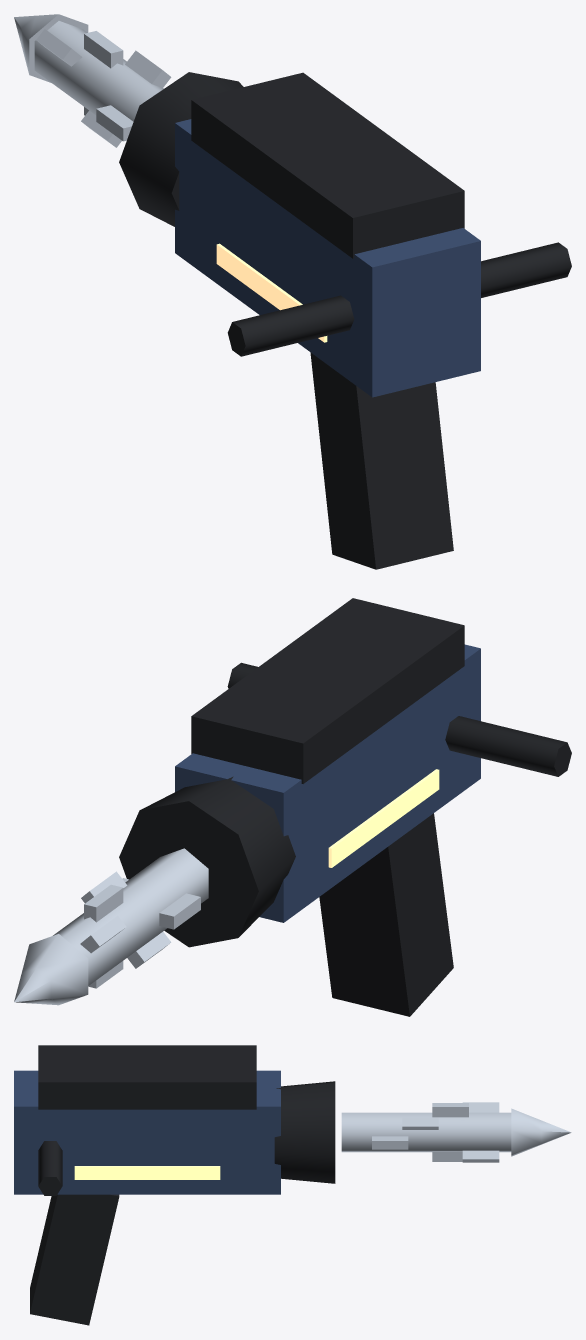
Rendered from tool_core_drill.glb.
3 renders of one model, top to bottom at view 1: azimuth 30°, elevation 25°; view 2: azimuth 150°, elevation 25°; view 3: azimuth 270°, elevation 25°, orthographic. The views are drawn at different scales.
Parts seen in each view (by area): view 1: _MeshInstance3D_1235, _MeshInstance3D_1236, _MeshInstance3D_1234, _MeshInstance3D_1239, _MeshInstance3D_1240, _MeshInstance3D_1237, _MeshInstance3D_1238, _MeshInstance3D_1246, _MeshInstance3D_1245, _MeshInstance3D_1242, _MeshInstance3D_1243, _MeshInstance3D_1241 (+1 smaller); view 2: _MeshInstance3D_1236, _MeshInstance3D_1235, _MeshInstance3D_1234, _MeshInstance3D_1239, _MeshInstance3D_1240, _MeshInstance3D_1237, _MeshInstance3D_1245, _MeshInstance3D_1246, _MeshInstance3D_1243, _MeshInstance3D_1242, _MeshInstance3D_1241, _MeshInstance3D_1244; view 3: _MeshInstance3D_1235, _MeshInstance3D_1236, _MeshInstance3D_1234, _MeshInstance3D_1240, _MeshInstance3D_1239, _MeshInstance3D_1246, _MeshInstance3D_1245, _MeshInstance3D_1238, _MeshInstance3D_1243, _MeshInstance3D_1244, _MeshInstance3D_1241, _MeshInstance3D_1242.
Part boxes in pixels (x1,y1,x2,y2): _MeshInstance3D_1235: (175,119,480,397); _MeshInstance3D_1236: (191,72,464,258); _MeshInstance3D_1234: (310,352,453,569); _MeshInstance3D_1239: (119,72,243,226); _MeshInstance3D_1240: (34,21,163,121); _MeshInstance3D_1237: (227,295,354,356); _MeshInstance3D_1238: (481,242,571,297); _MeshInstance3D_1246: (216,243,327,342); _MeshInstance3D_1245: (14,14,88,82); _MeshInstance3D_1242: (81,50,171,147); _MeshInstance3D_1243: (84,31,123,115); _MeshInstance3D_1241: (96,105,133,141); _MeshInstance3D_1236: (191,598,464,783); _MeshInstance3D_1235: (175,644,480,922); _MeshInstance3D_1234: (319,813,453,1016); _MeshInstance3D_1239: (119,776,295,947); _MeshInstance3D_1240: (53,848,208,985); _MeshInstance3D_1237: (445,716,571,776); _MeshInstance3D_1245: (14,934,88,1005); _MeshInstance3D_1246: (328,769,439,867); _MeshInstance3D_1243: (84,884,123,988); _MeshInstance3D_1242: (81,871,171,968); _MeshInstance3D_1241: (122,878,200,929); _MeshInstance3D_1244: (80,915,126,953); _MeshInstance3D_1235: (14,1070,280,1194); _MeshInstance3D_1236: (38,1045,256,1109); _MeshInstance3D_1234: (30,1194,119,1325); _MeshInstance3D_1240: (341,1112,511,1152); _MeshInstance3D_1239: (274,1081,335,1183); _MeshInstance3D_1246: (74,1166,220,1179); _MeshInstance3D_1245: (511,1108,571,1156); _MeshInstance3D_1238: (38,1141,62,1195); _MeshInstance3D_1243: (432,1103,468,1161); _MeshInstance3D_1244: (462,1102,499,1162); _MeshInstance3D_1241: (372,1136,408,1149); _MeshInstance3D_1242: (402,1117,438,1129).
Bounding box in the file's own units: 0.21 × 0.2264 × 0.46.
